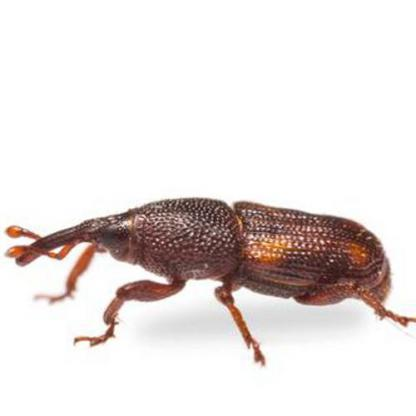rice-bug: (23, 194, 404, 340)
